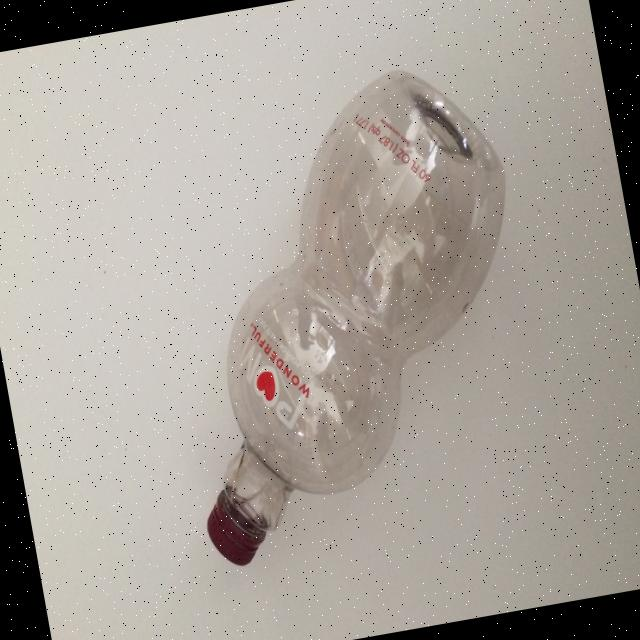plastic: (133, 52, 564, 571)
